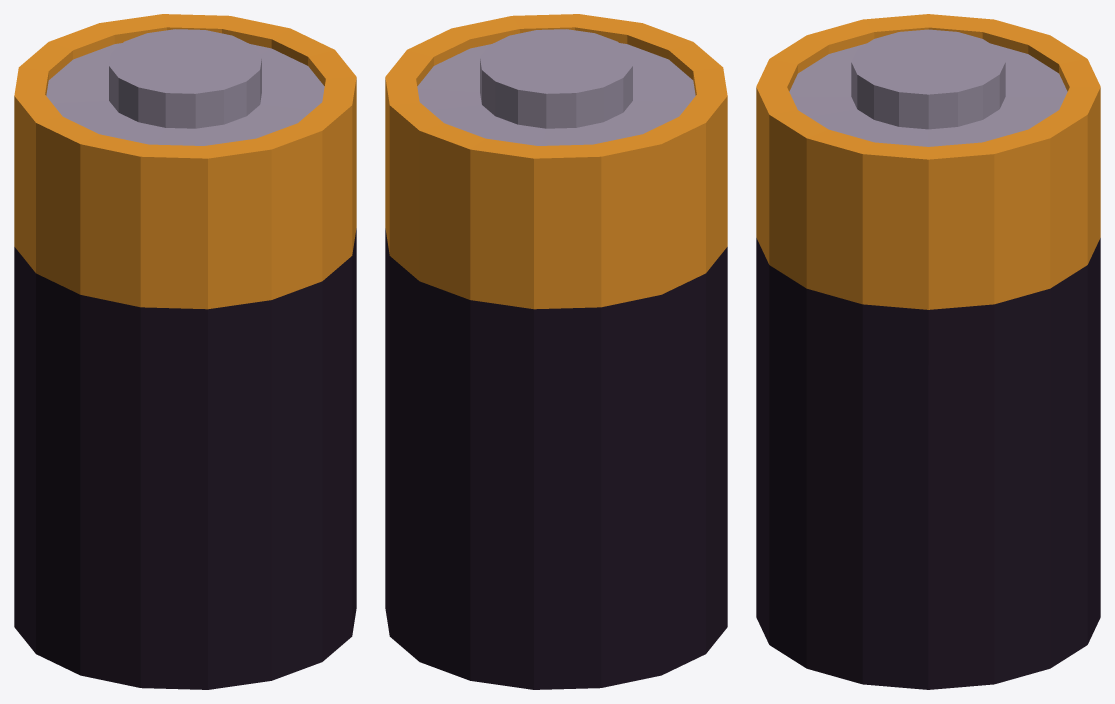
The model's file is battery.fbx.
3 views of the same model, side by side, from view 1: azimuth 30°, elevation 25°; view 2: azimuth 150°, elevation 25°; view 3: azimuth 270°, elevation 25° (orthographic).
Parts seen in each view (by area): view 1: Cylinder; view 2: Cylinder; view 3: Cylinder.
Part boxes in pixels (box(x1,y1,x2,y2)): Cylinder: box(14, 14, 356, 689); Cylinder: box(385, 14, 727, 689); Cylinder: box(756, 14, 1100, 689).
Bounding box in the file's own units: 41.19 × 73.22 × 41.19.
1 material, 1 textured.
